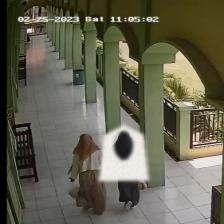Mukena: (99, 124, 148, 181)
